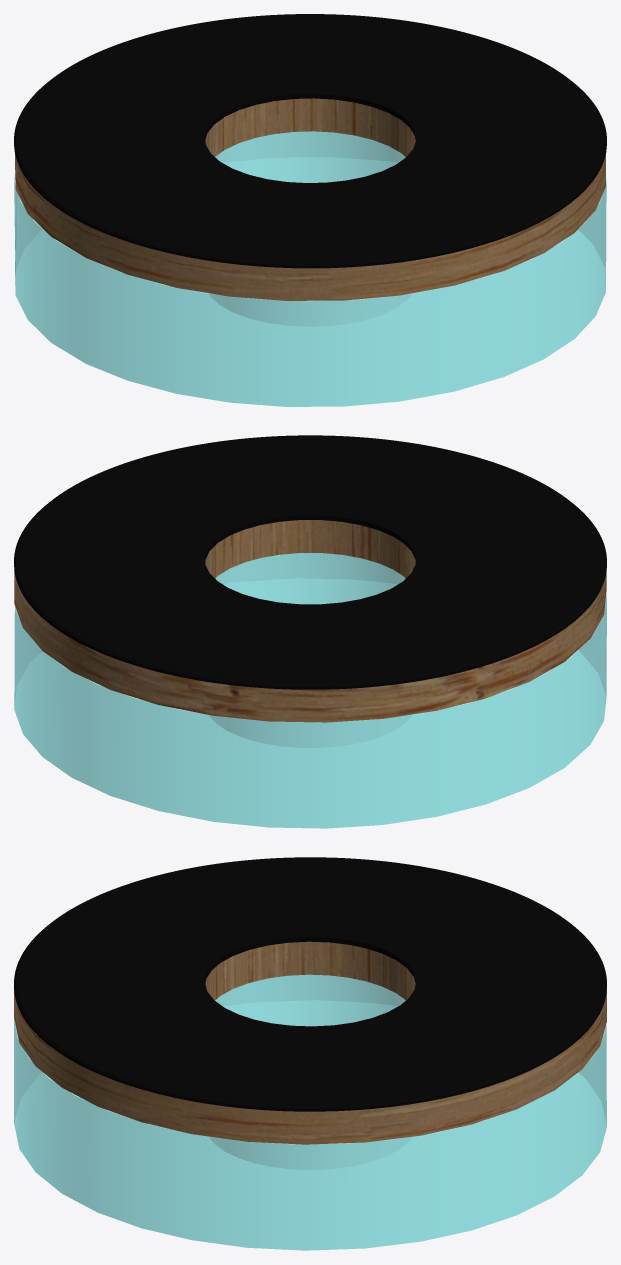
The model's file is curved-table.fbx.
3 renders of one model, top to bottom at view 1: azimuth 30°, elevation 25°; view 2: azimuth 150°, elevation 25°; view 3: azimuth 270°, elevation 25°, orthographic.
Parts seen in each view (by area): view 1: Object_4, Object_1, Object_3; view 2: Object_4, Object_1, Object_3; view 3: Object_4, Object_1, Object_3.
Boxes of the visible parts, x1,y1,x2,y2 form: Object_4: [14, 14, 606, 268]; Object_1: [14, 131, 606, 406]; Object_3: [15, 98, 605, 300]; Object_4: [14, 435, 606, 689]; Object_1: [14, 553, 606, 828]; Object_3: [14, 520, 606, 722]; Object_4: [14, 857, 606, 1111]; Object_1: [14, 974, 606, 1250]; Object_3: [14, 941, 606, 1144].
Bounding box in the file's own units: 112 × 112 × 30.
Materials: 3 (1 with a texture image).
